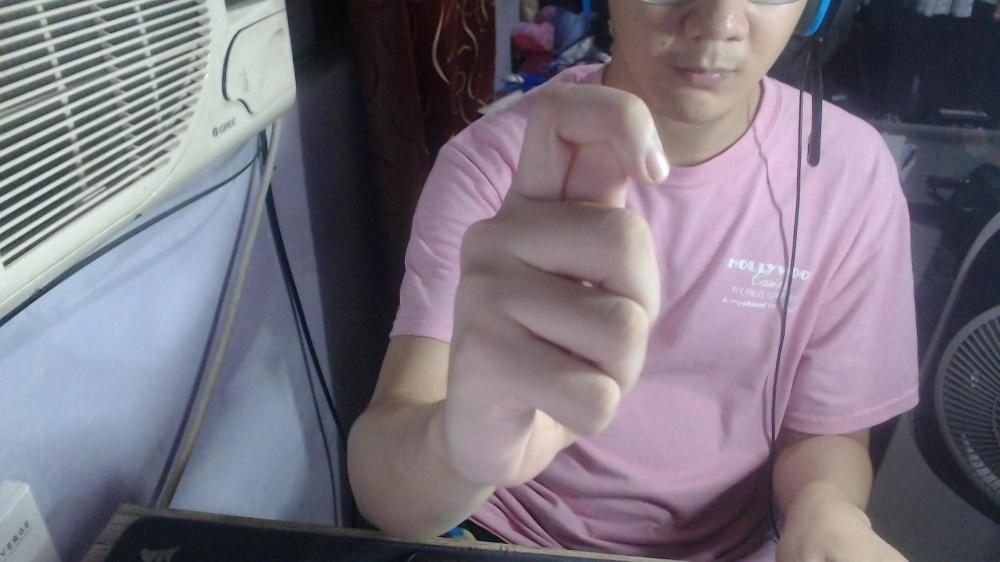t: (439, 75, 672, 491)
